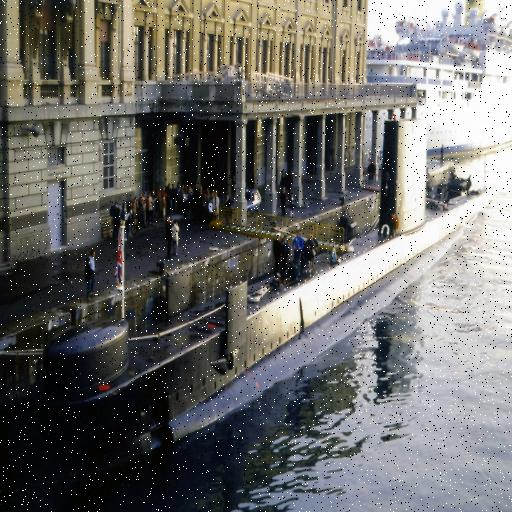submarine: (30, 113, 491, 467)
